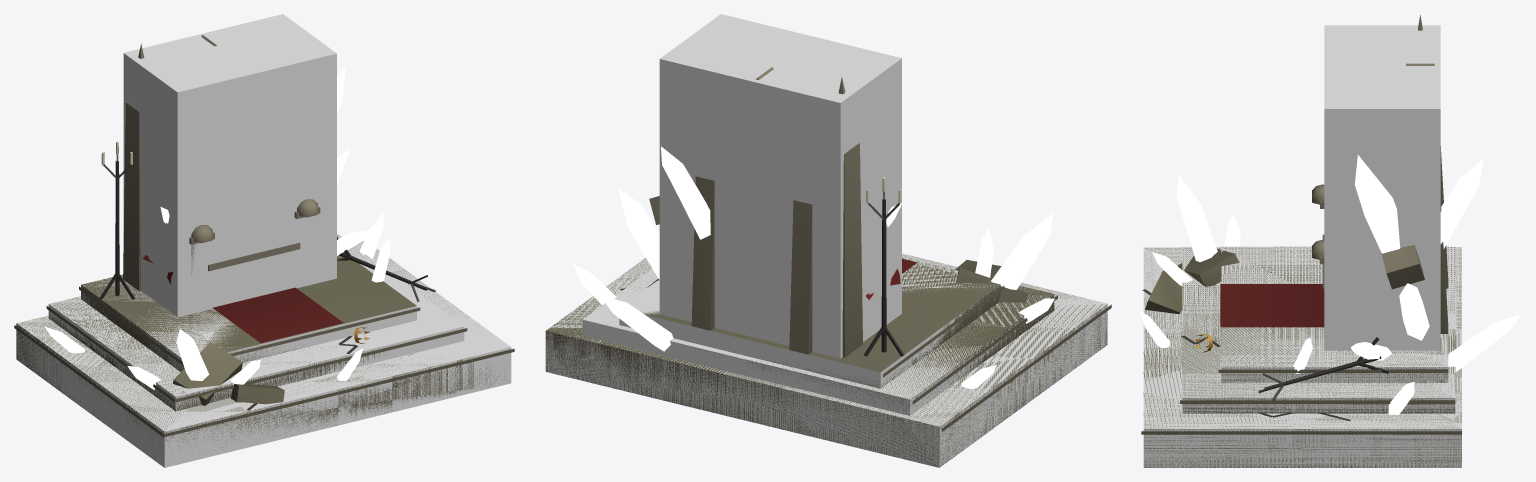
The model's file is throne.glb.
3 views of the same model, side by side, from view 1: azimuth 30°, elevation 25°; view 2: azimuth 150°, elevation 25°; view 3: azimuth 270°, elevation 25° (orthographic). The views are drawn at different scales.
Visible parts, largest first — view 1: COL_throne, throne, WALK_dais_1, WALK_dais_2, WALK_dais; view 2: COL_throne, throne, WALK_dais_1, WALK_dais_2, WALK_dais; view 3: throne, COL_throne, WALK_dais_1, WALK_dais_2, WALK_dais.
Part boxes in pixels (x1,y1,x2,y2): COL_throne: (123, 14, 336, 317); throne: (14, 35, 514, 462); WALK_dais_1: (16, 240, 511, 467); WALK_dais_2: (48, 233, 464, 410); WALK_dais: (81, 256, 416, 371); COL_throne: (659, 14, 901, 358); throne: (545, 67, 1111, 466); WALK_dais_1: (545, 253, 1107, 467); WALK_dais_2: (582, 257, 1053, 415); WALK_dais: (619, 264, 998, 388); throne: (1140, 15, 1521, 467); COL_throne: (1324, 25, 1440, 350); WALK_dais_1: (1143, 247, 1461, 467); WALK_dais_2: (1182, 247, 1455, 413); WALK_dais: (1221, 246, 1448, 382).
Size of the model in its own units: 5.19 by 4.2 by 4.43.
